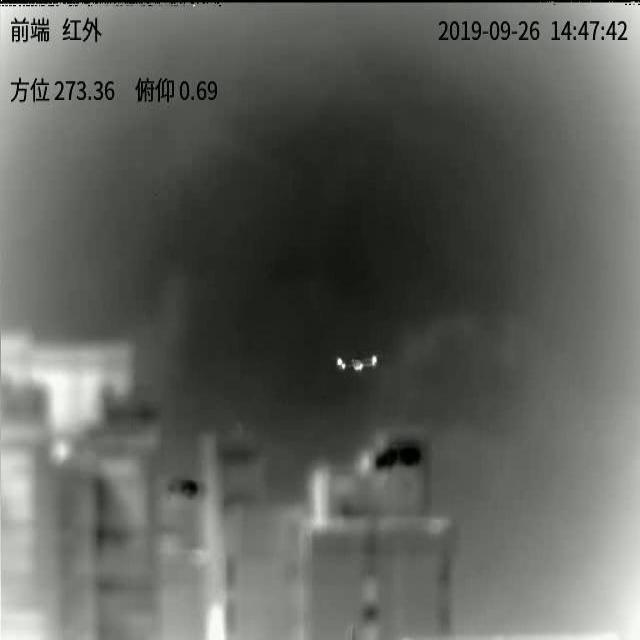drone: (336, 354, 377, 372)
